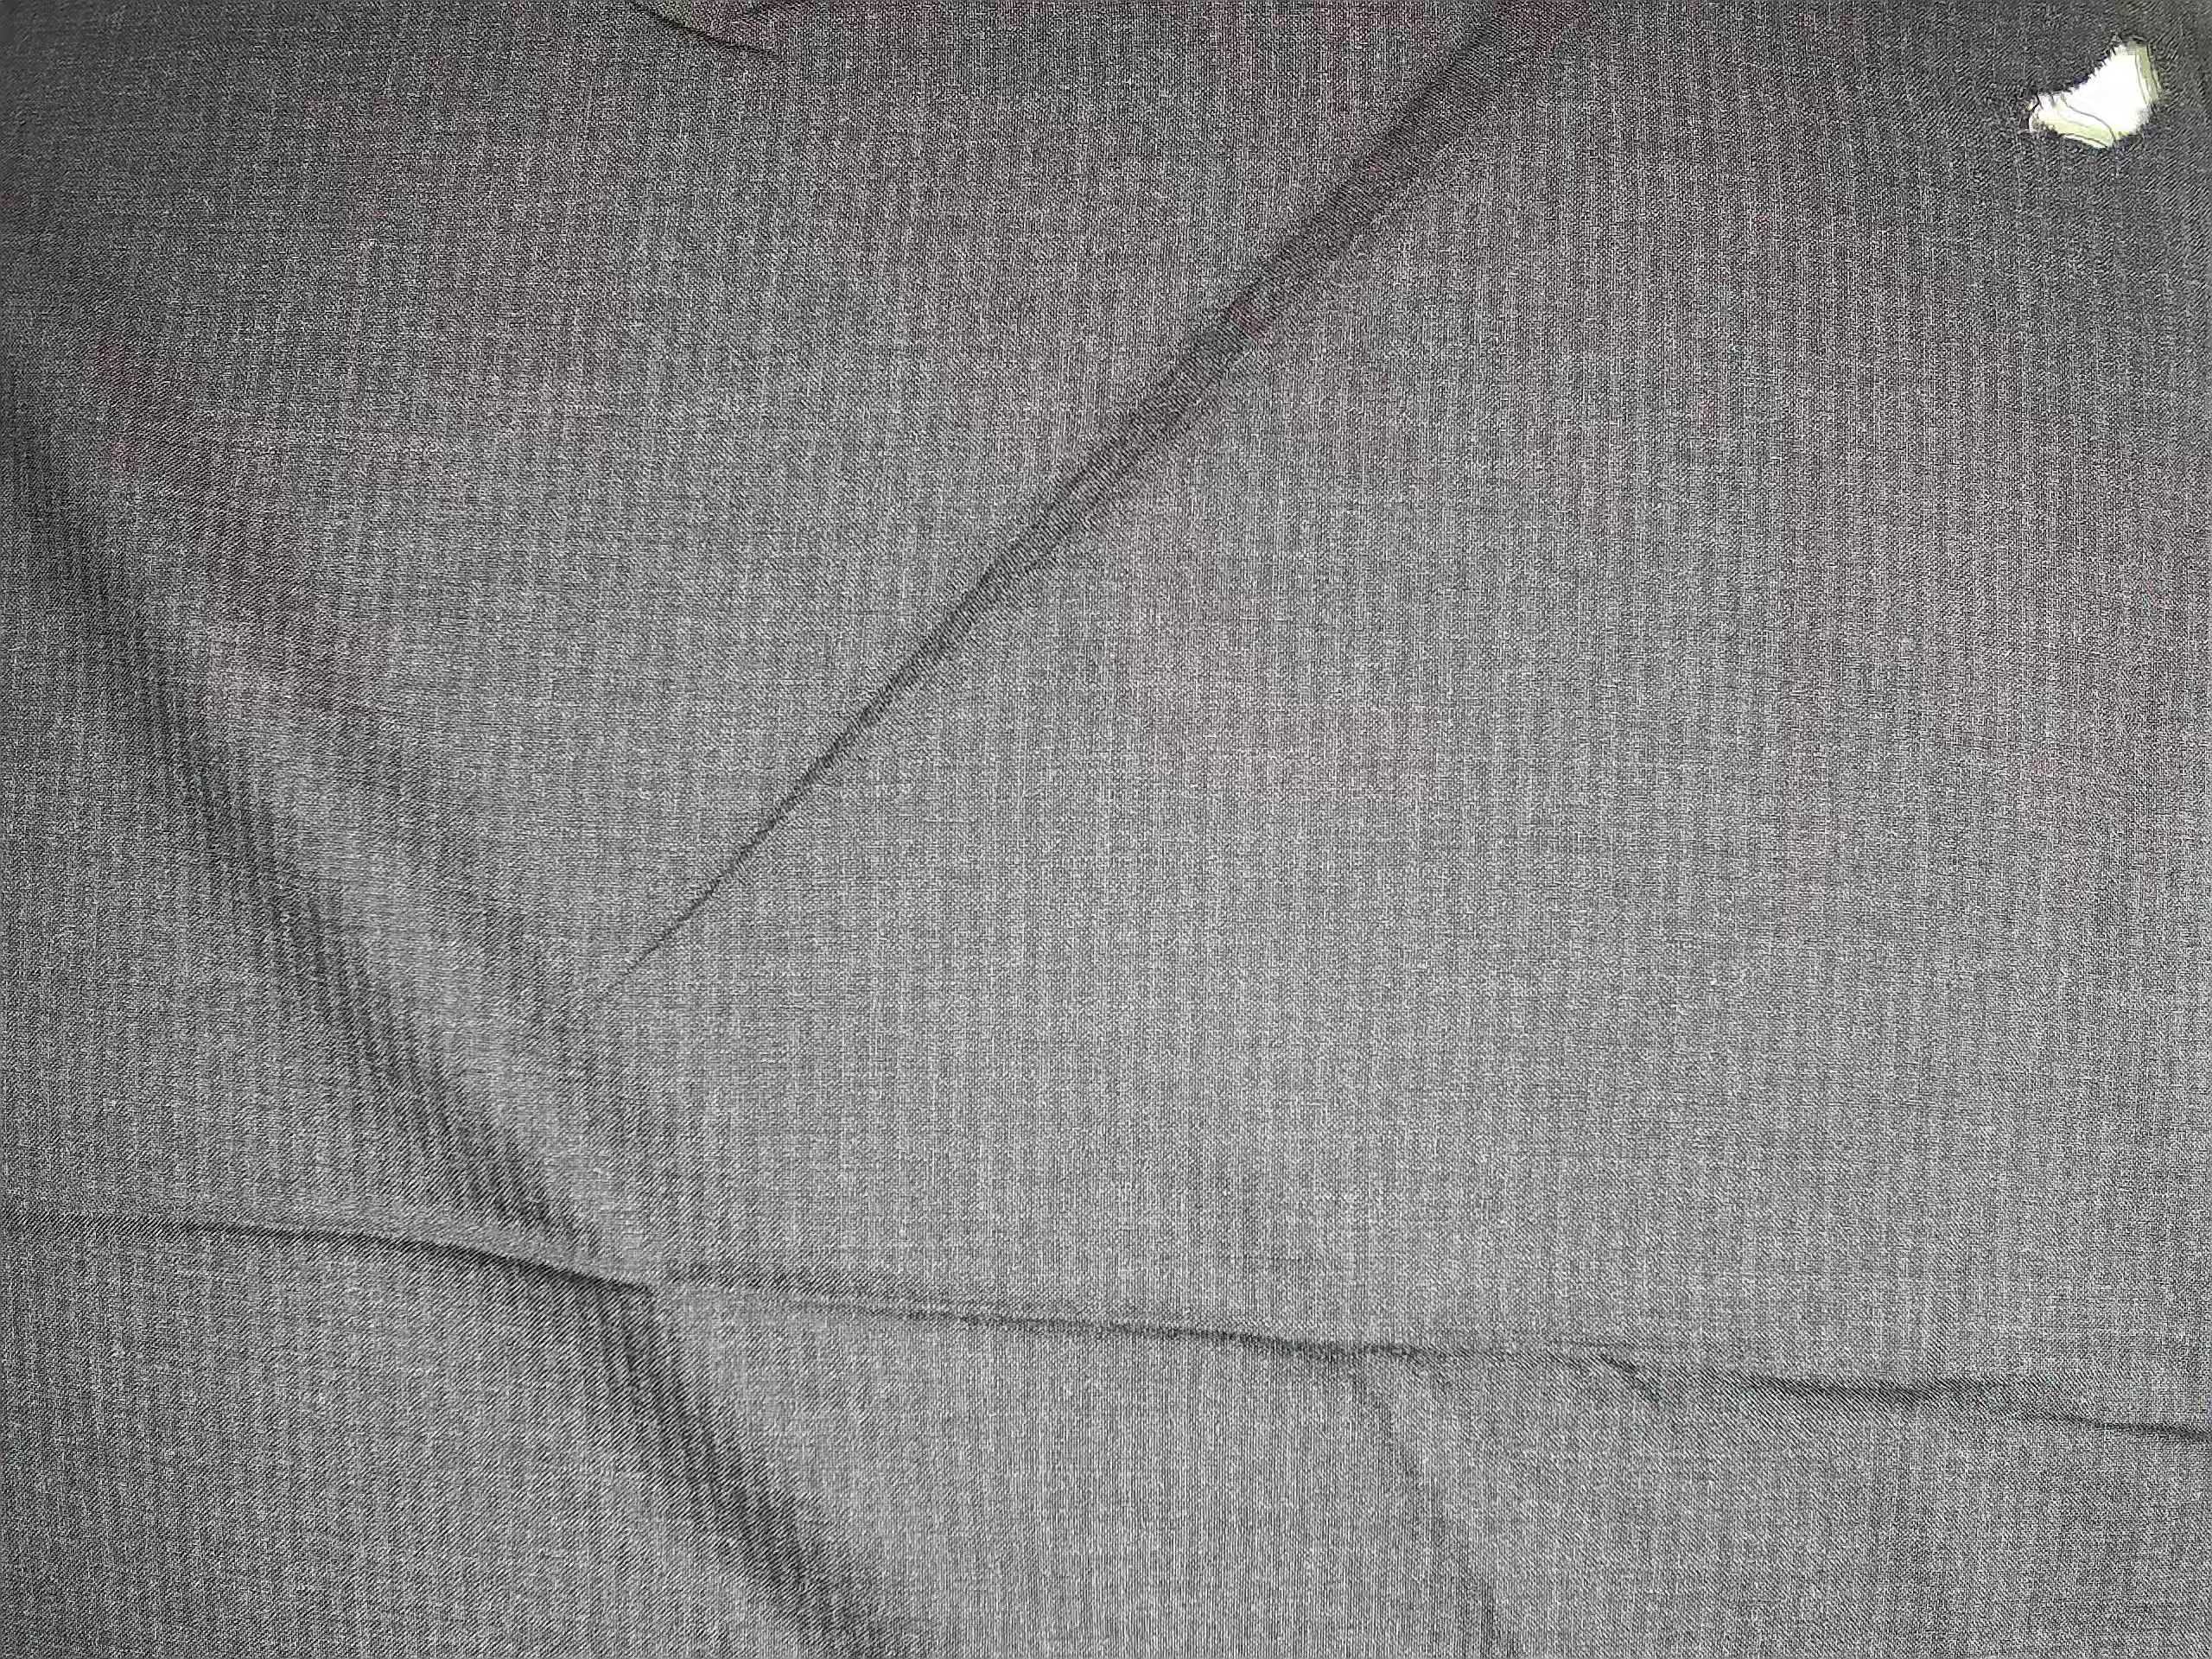rubbing-hole: (1979, 12, 2205, 181)
